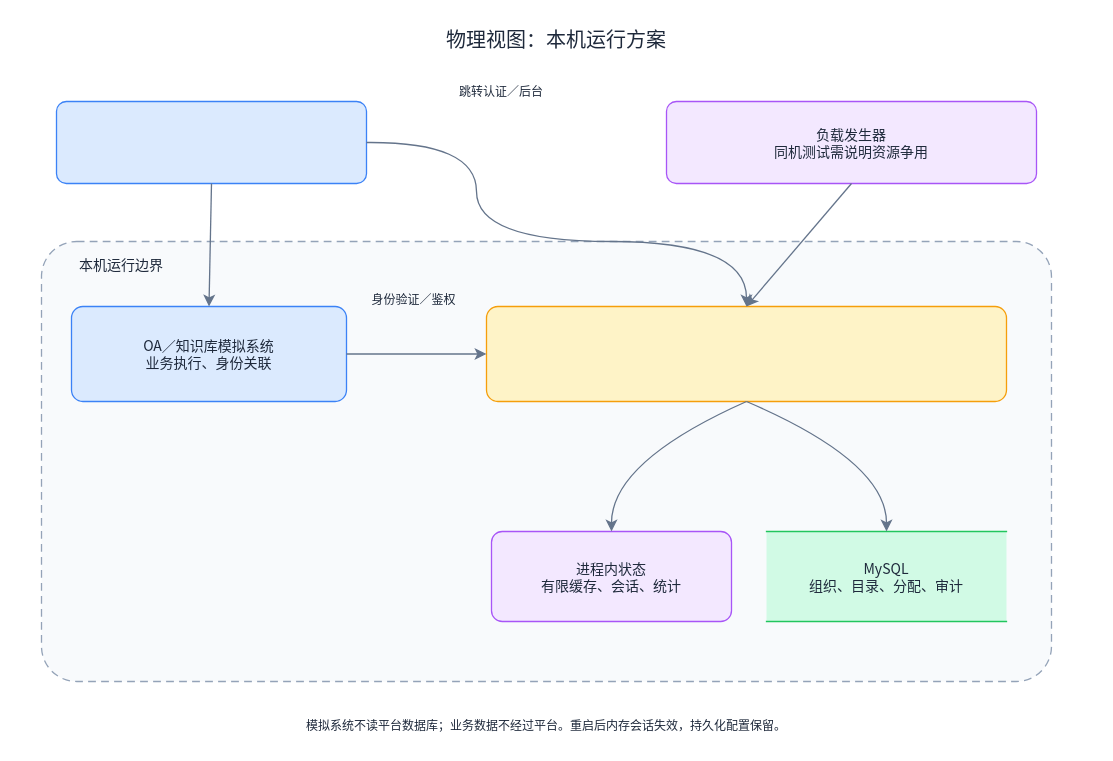
The diagram is 1113 pixels wide and 761 high, and some of its shapes have lost their labels. The shapes that lost their labels are listed below. From the top down, each one's centre as x and y in pixels, then its label:
At (211,142): "桌面浏览器 登录页、后台、模拟系统".
At (746,353): "平台应用进程 M1 至 M6、统一登录及鉴权".
